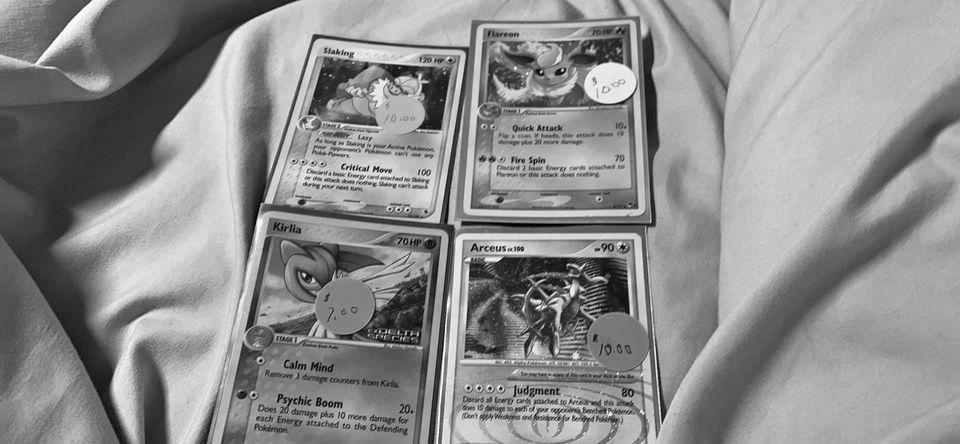card: (209, 210, 450, 444), (439, 232, 659, 444), (261, 38, 467, 224), (461, 19, 647, 218)
